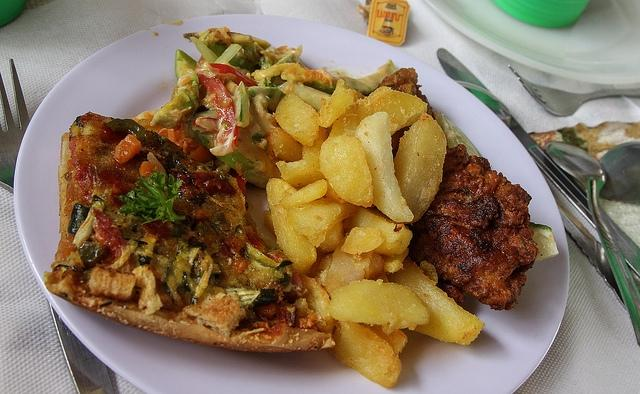potato: (385, 255, 485, 345), (354, 112, 414, 223), (328, 278, 431, 336), (394, 112, 447, 224), (327, 86, 428, 138), (330, 320, 402, 389), (266, 178, 316, 274), (318, 132, 374, 209), (343, 206, 413, 258), (288, 198, 360, 248), (276, 126, 332, 190), (325, 243, 371, 300), (272, 92, 320, 146), (316, 78, 366, 128), (359, 322, 408, 358), (279, 179, 328, 209), (341, 226, 386, 254), (270, 127, 304, 163), (316, 220, 344, 253), (378, 248, 410, 276)
